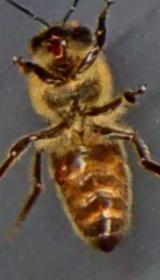varroa_mite: (49, 152, 74, 188)
